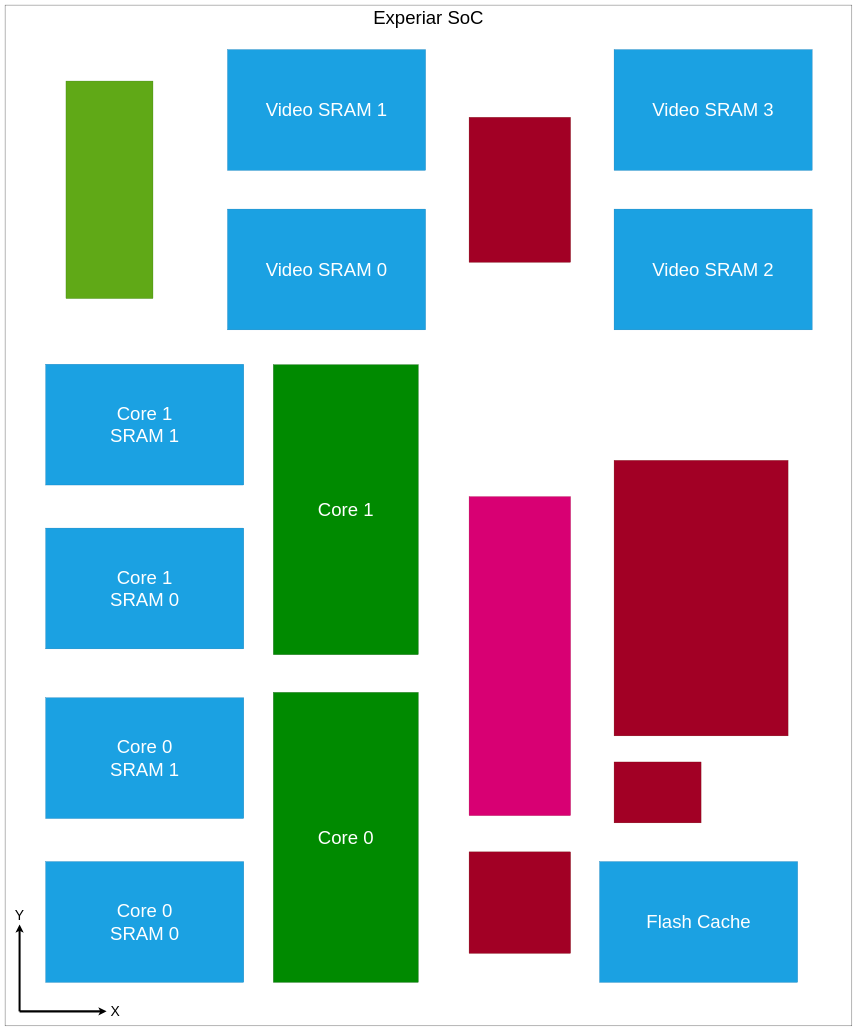
Some shapes in this 857 by 1031 pixel diagram are drawn without their labels. The shapes that lost their labels are listed below. From the top down, each one's box as (x1, y1, x2, y2) in pixels, then its label:
(66, 81, 153, 299): Art
(469, 117, 571, 262): Video
(614, 460, 788, 736): Peripherals
(469, 496, 571, 816): Wishbone Interconnect
(614, 762, 701, 823): Flash Controller
(469, 852, 571, 953): Caravel Host
